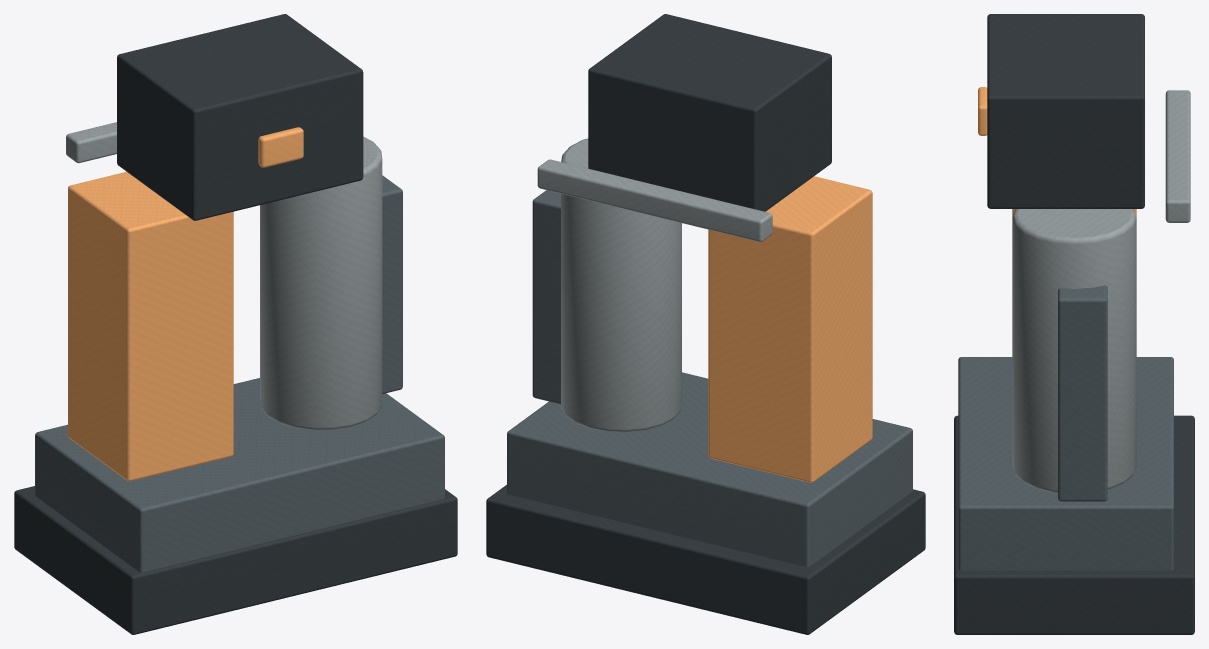
Rendered from SpillResponseCart.glb.
The picture shows the model from 3 angles, left to right: view 1: azimuth 30°, elevation 25°; view 2: azimuth 150°, elevation 25°; view 3: azimuth 270°, elevation 25°; orthographic projection. The views are drawn at different scales.
Visible parts, largest first — view 1: SpillResponseCart_Mesh; view 2: SpillResponseCart_Mesh; view 3: SpillResponseCart_Mesh.
Boxes of the visible parts, left/top/right/bottom form: SpillResponseCart_Mesh: left=14, top=14, right=457, bottom=634; SpillResponseCart_Mesh: left=486, top=14, right=925, bottom=634; SpillResponseCart_Mesh: left=954, top=14, right=1194, bottom=634.
Size of the model in its own units: 0.92 by 1.33 by 0.58.
Materials: 4 (4 with a texture image).
